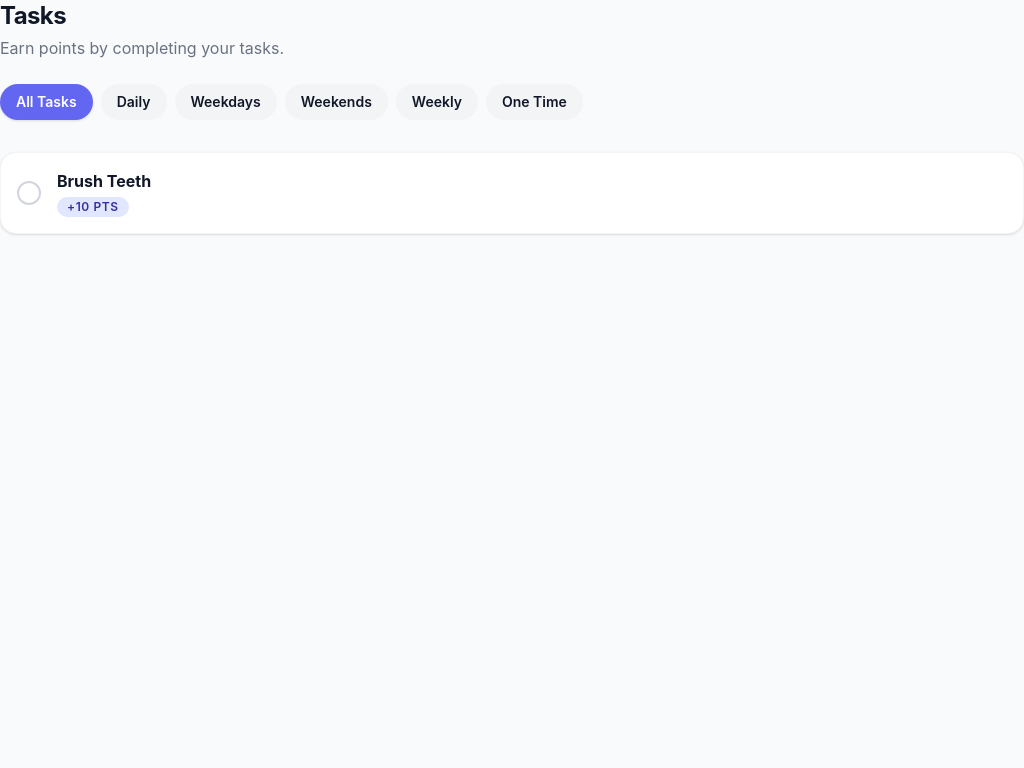
Scenario: Tasks page — role-based management controls › child does NOT see management controls and only sees Mark as Done
Click the heading "Brush Teeth": click(104, 181) top-left (57, 171), bottom-right (151, 191)
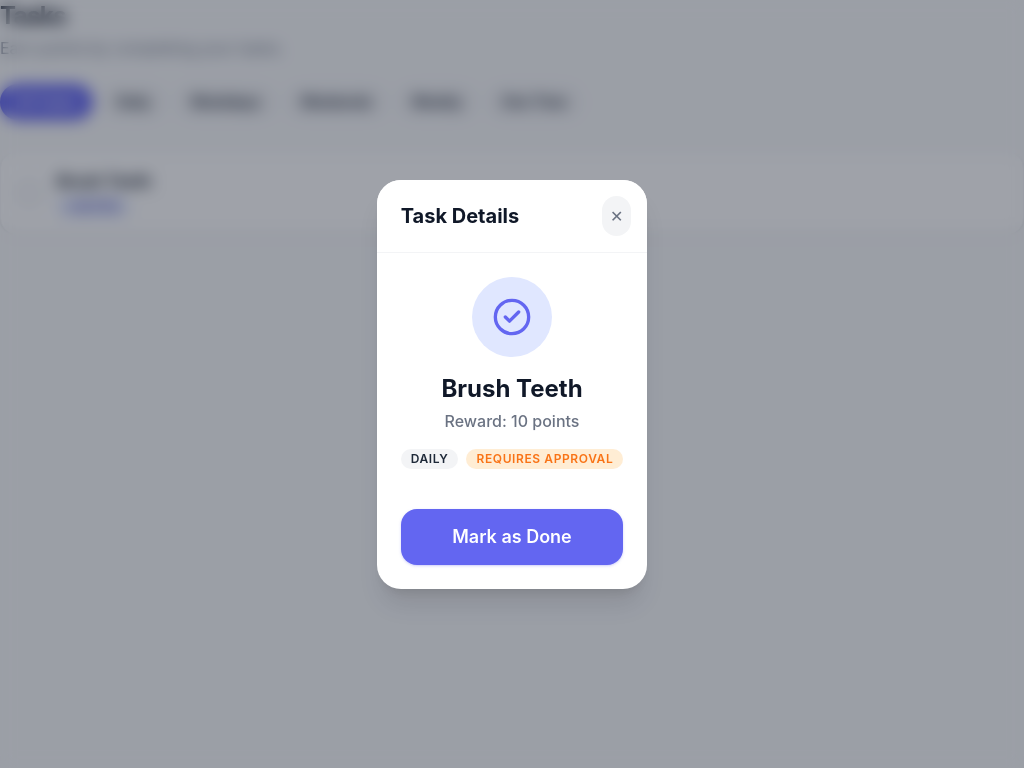
Expected: the button "Mark as Done" is shown, top-left (401, 508), bottom-right (623, 564)
